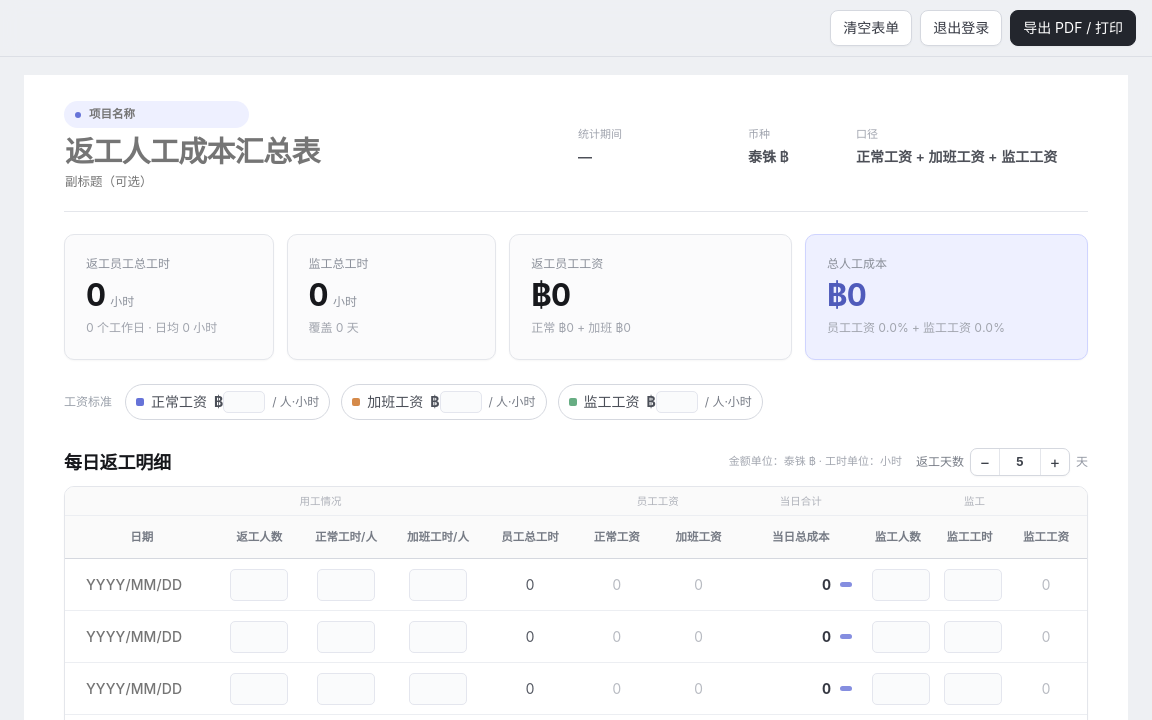
Test: App local persistence › applies the day stepper to the current typed value
Replace the text in the number field named "返工天数" with "7" at (1020, 462), box [999, 449, 1041, 475]
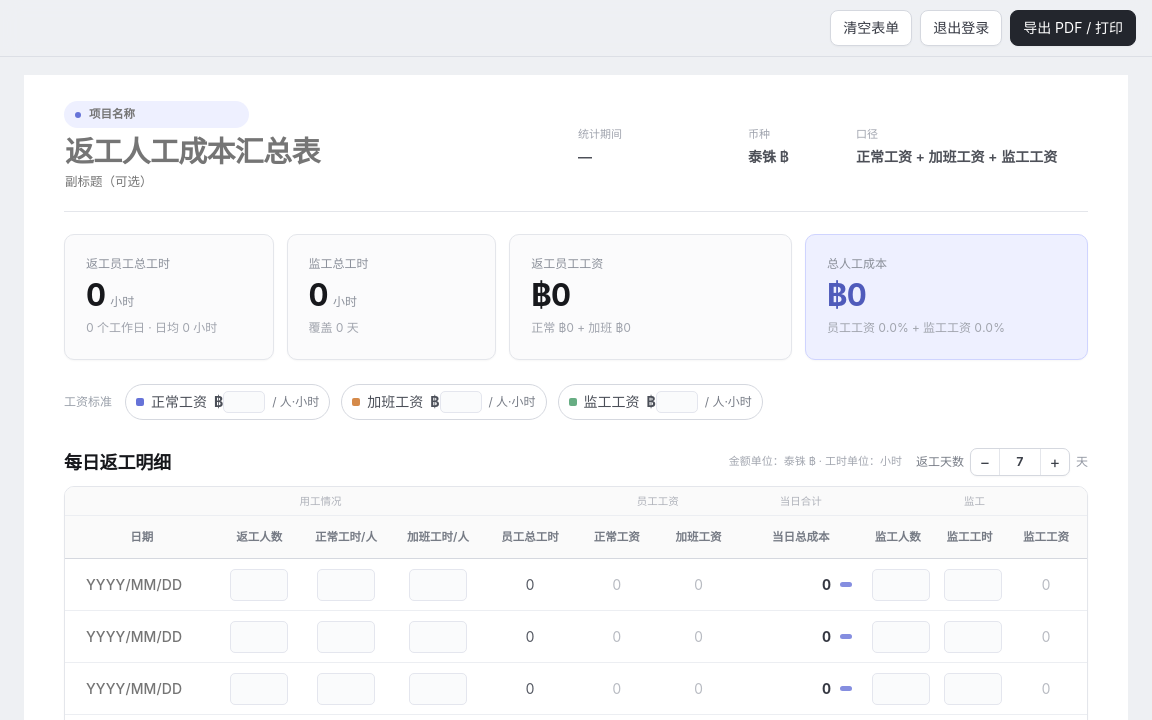
Click the button named "增加一天" at (1055, 462), box [1041, 449, 1069, 475]
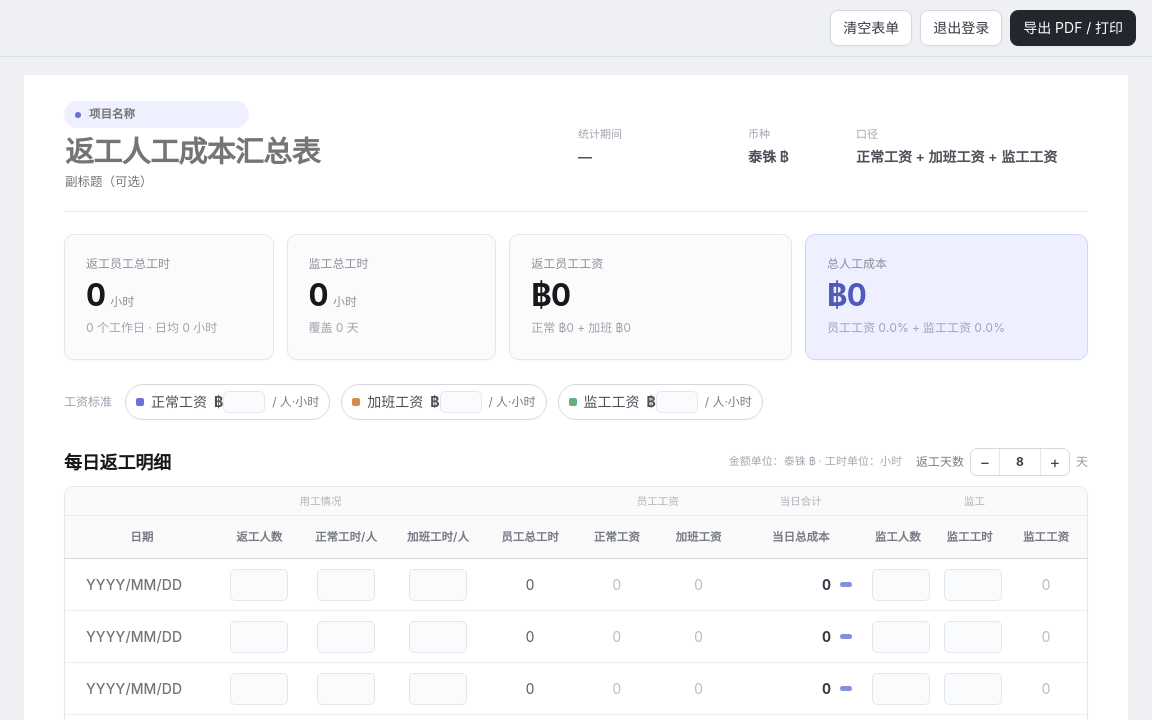
Result: the number field named "返工天数" holds "8"
Replace the text in the number field named "返工天数" with "4" at (1020, 462), box [999, 449, 1041, 475]
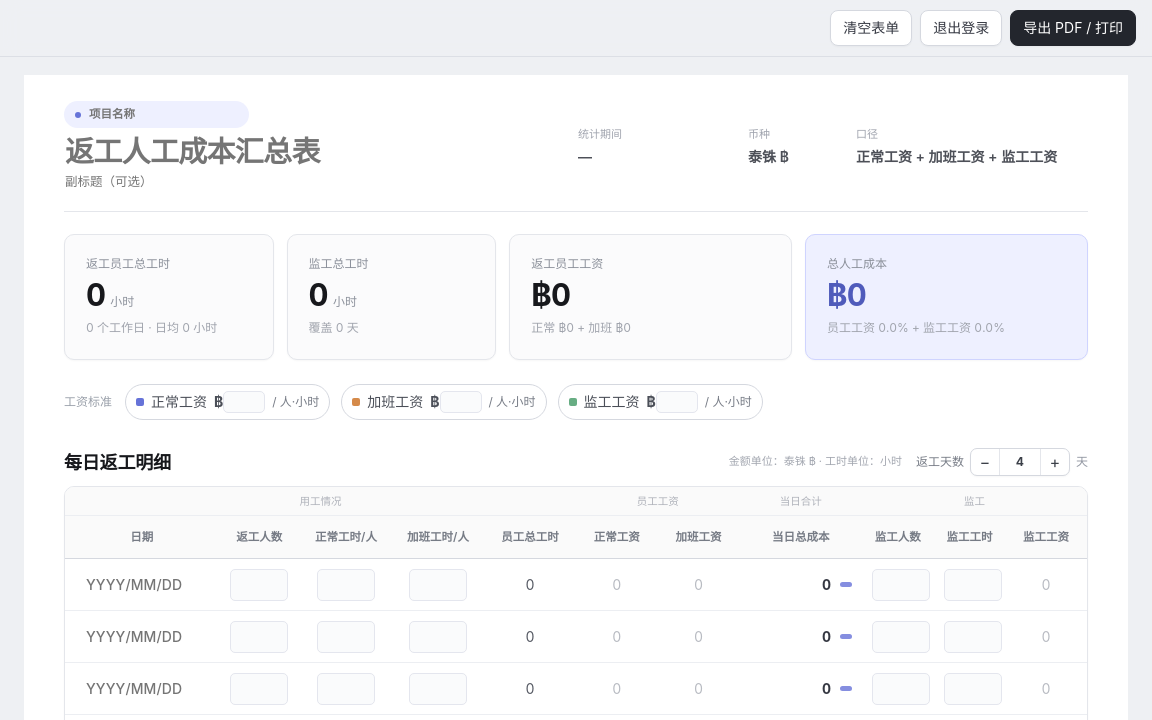
Click the button named "减少一天" at (985, 462), box [971, 449, 999, 475]
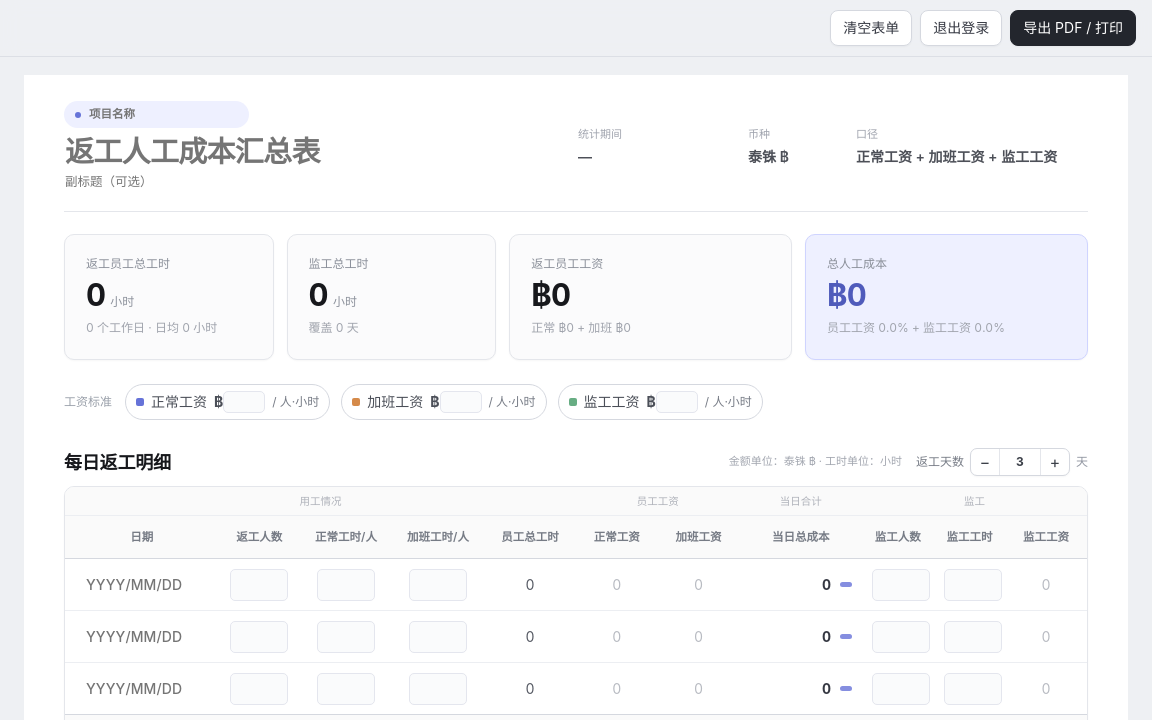
Expected: the number of fields named "日期" is 3, [81, 569, 199, 601]; [81, 621, 199, 653]; [81, 673, 199, 705]
Result: the number field named "返工天数" holds "3" at [999, 449, 1041, 475]
